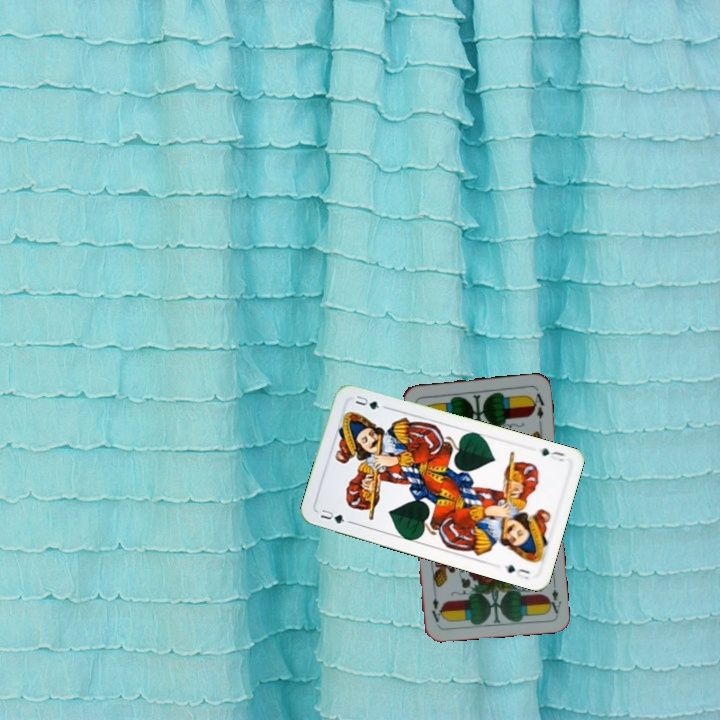EA: (544, 576, 563, 616)
GU: (316, 504, 354, 526), (537, 444, 567, 464)
